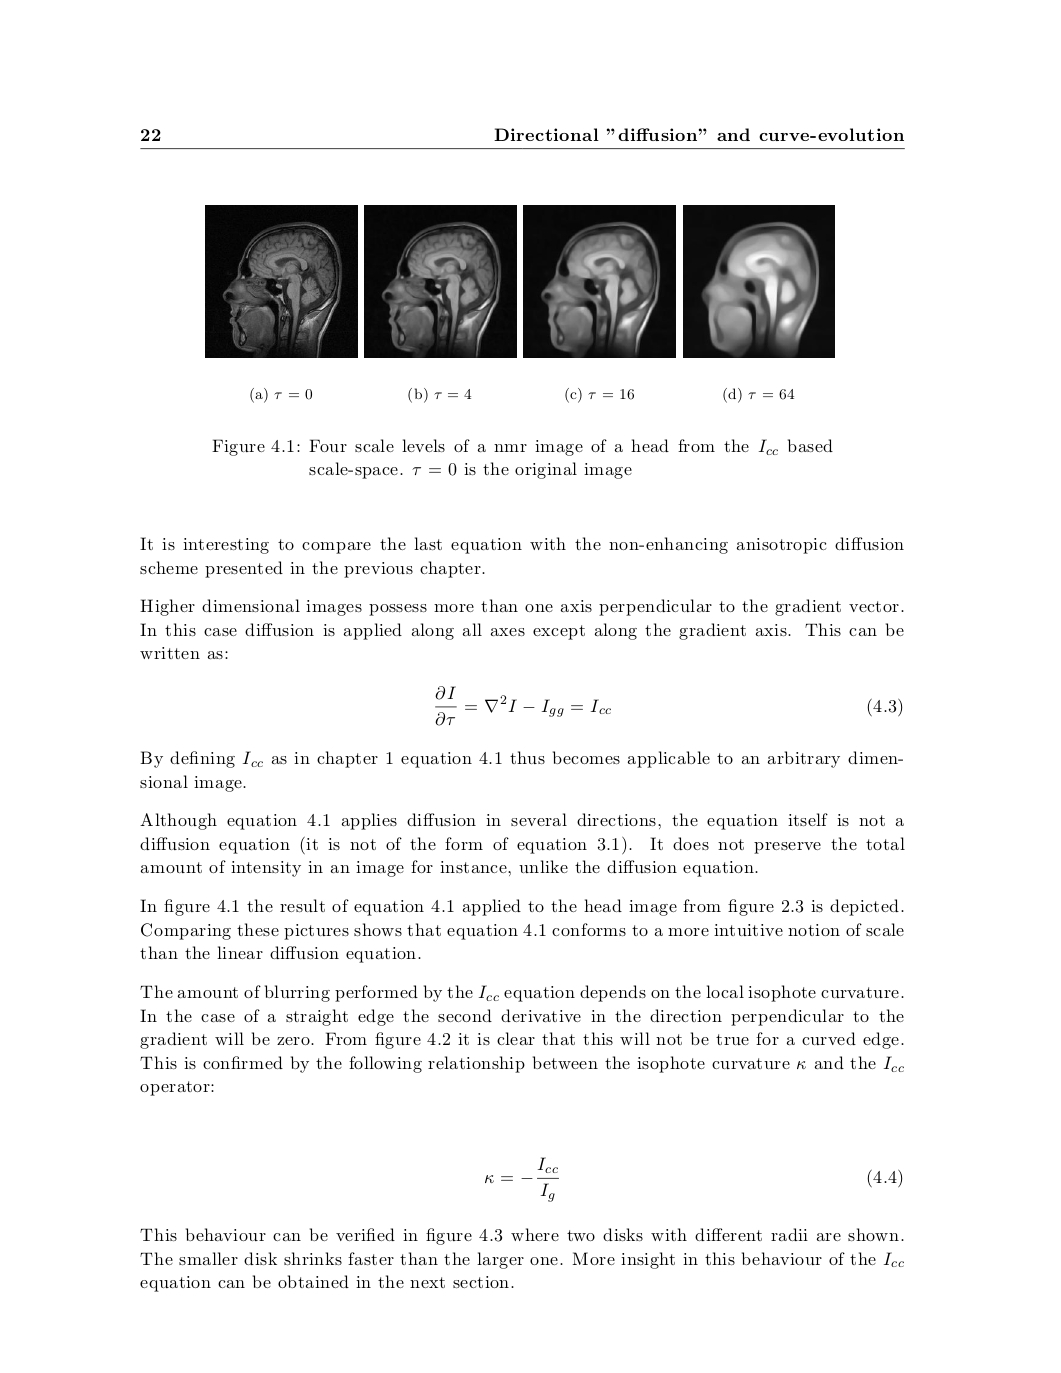figure: (523, 205, 675, 357), (205, 205, 357, 357), (364, 205, 516, 357), (683, 205, 834, 357)
formula: (485, 1156, 902, 1202), (435, 685, 902, 726)
